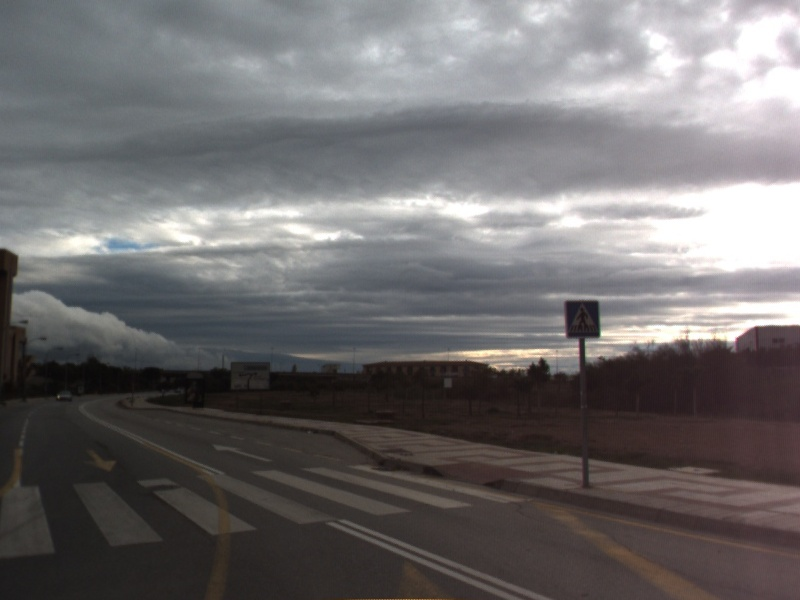STRAIGHT: (210, 442, 275, 464)
